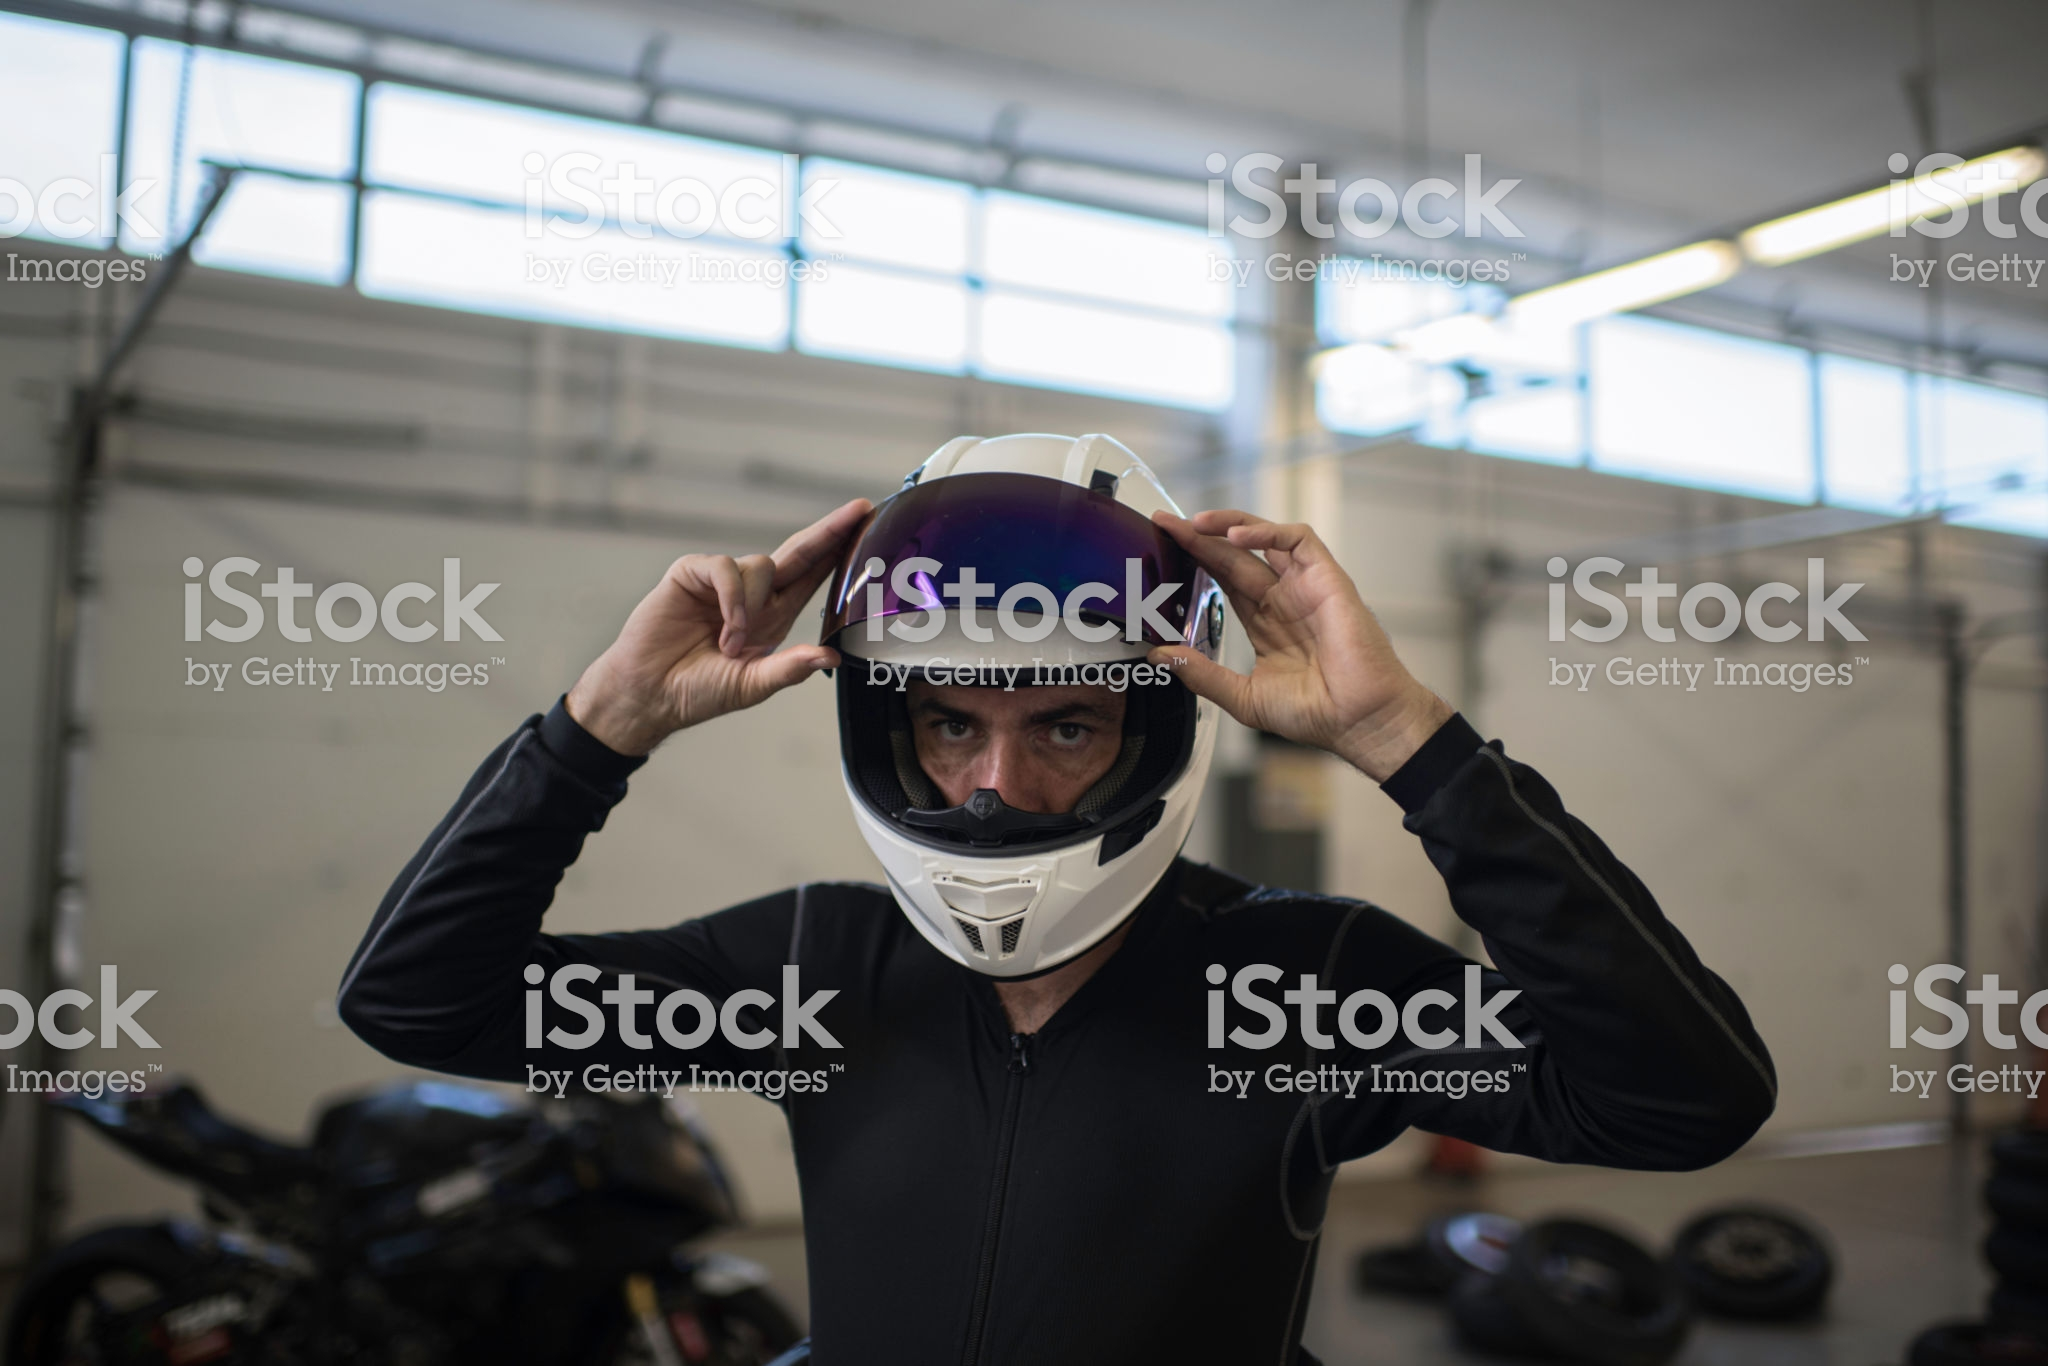helmet: (795, 399, 1221, 970)
